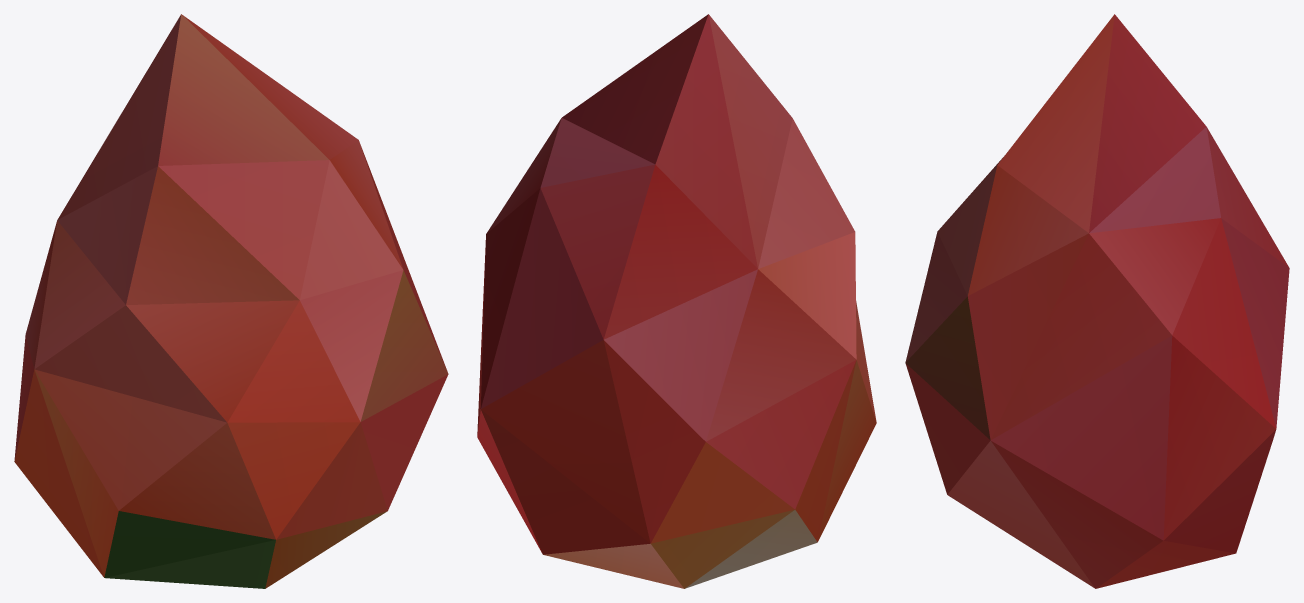
3 renders of one model, left to right at view 1: azimuth 30°, elevation 25°; view 2: azimuth 150°, elevation 25°; view 3: azimuth 270°, elevation 25°, orthographic. The views are drawn at different scales.
Visible parts, largest first — view 1: strawberry_03_visual; view 2: strawberry_03_visual; view 3: strawberry_03_visual.
Boxes of the visible parts, box(x1,y1,x2,y2) form: strawberry_03_visual: box(14, 14, 448, 588); strawberry_03_visual: box(477, 14, 876, 588); strawberry_03_visual: box(905, 14, 1289, 588).
Bounding box in the file's own units: 0.8201 × 0.8177 × 1.24.
